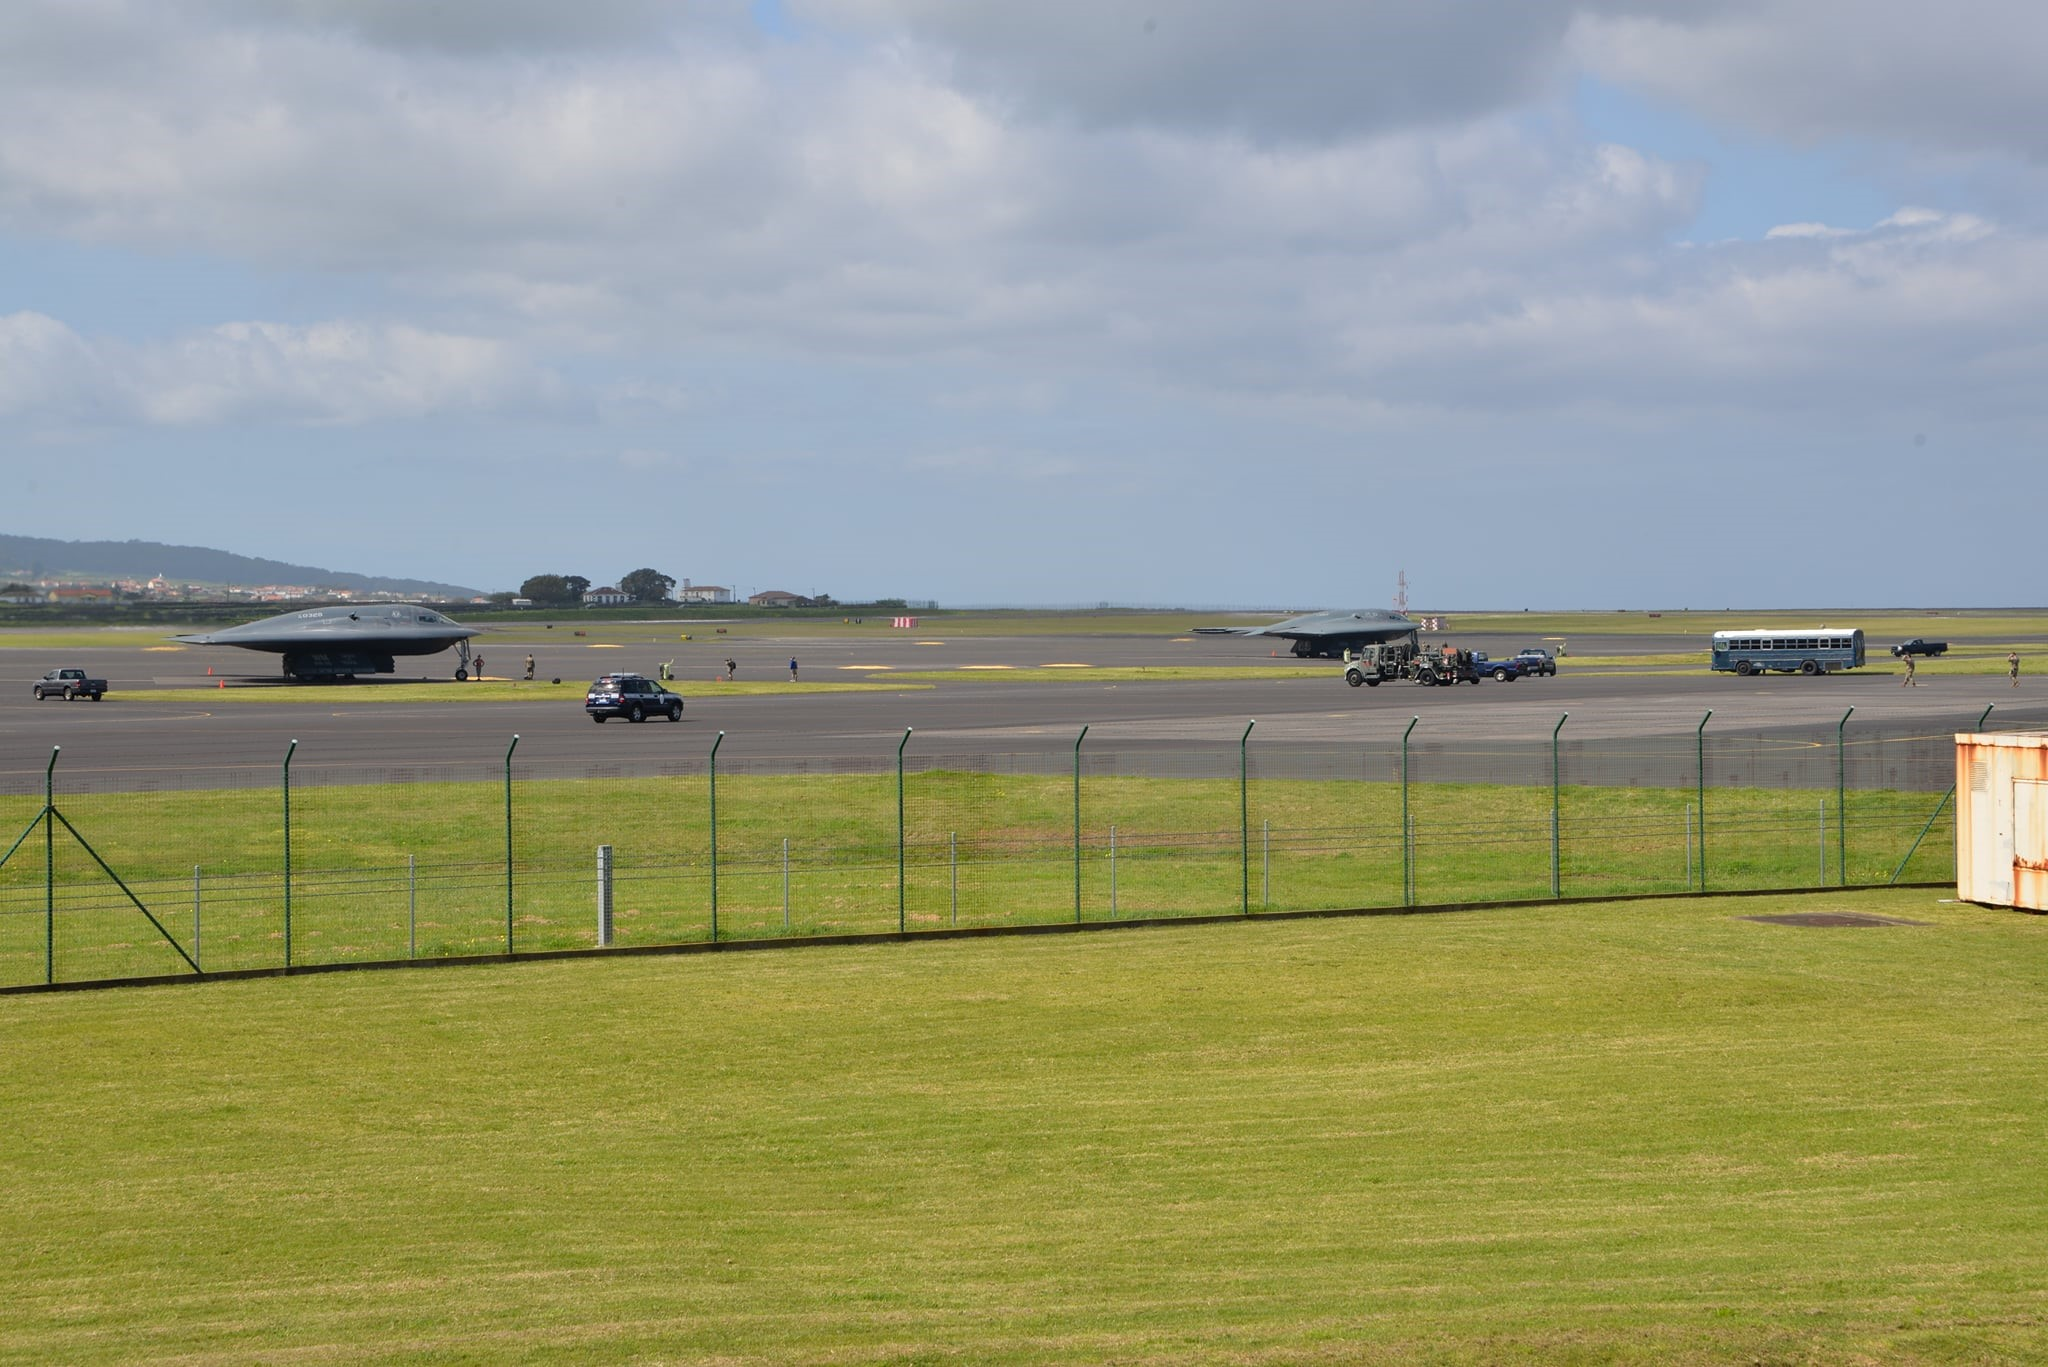B2: (159, 603, 483, 682), (1183, 607, 1424, 659)
